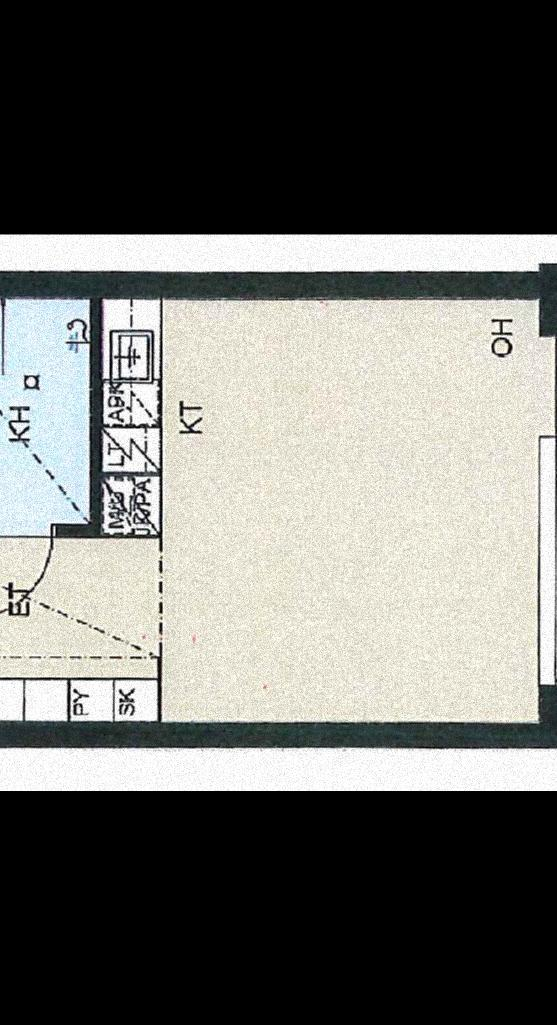window: (545, 438, 557, 680)
zone: (164, 301, 549, 719), (0, 297, 102, 533), (0, 537, 161, 679), (102, 297, 164, 529), (0, 676, 166, 726)
